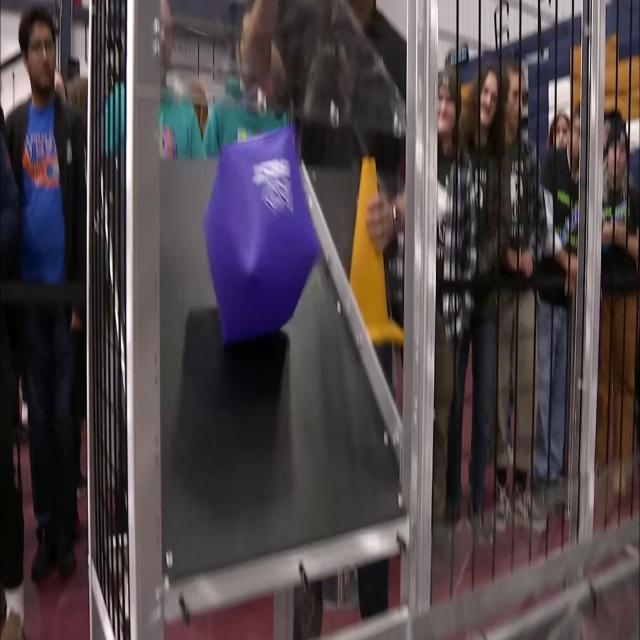frc_cone: (334, 164, 399, 346)
frc_cube: (206, 126, 316, 331)
